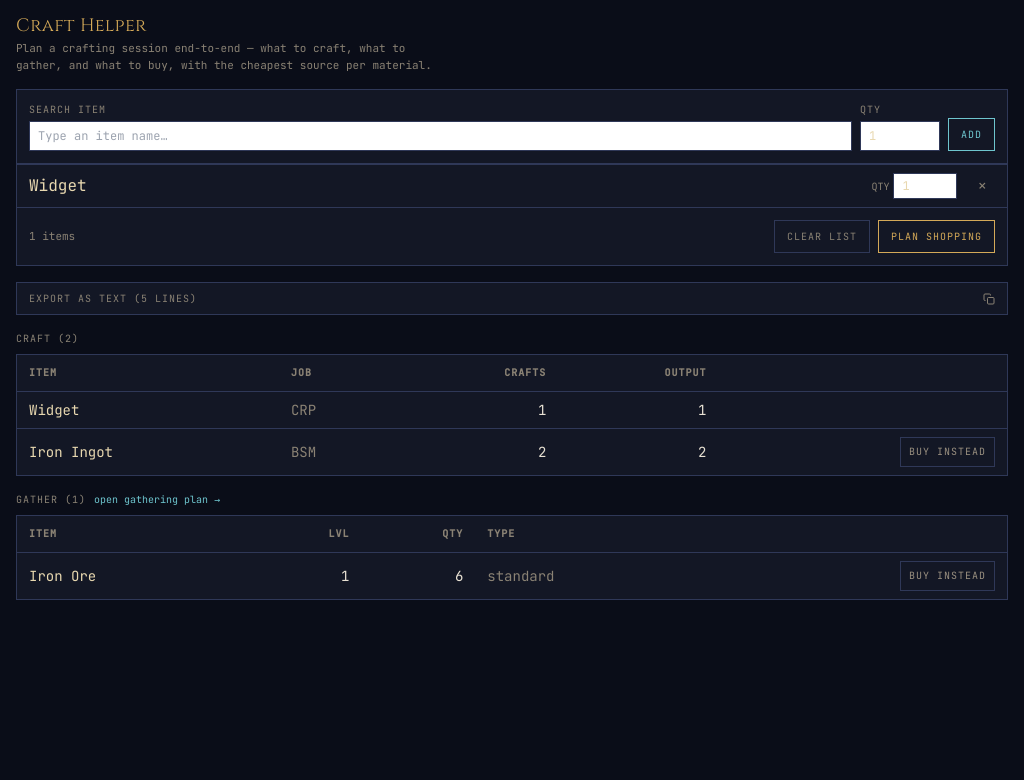
Test: ShoppingList route › prices the Buy list after clicking Plan shopping, excluding crystals
Expected: the text "total material cost" is not shown
Step 1. Click the button "Plan shopping" → [936, 236], box [878,220,995,253]
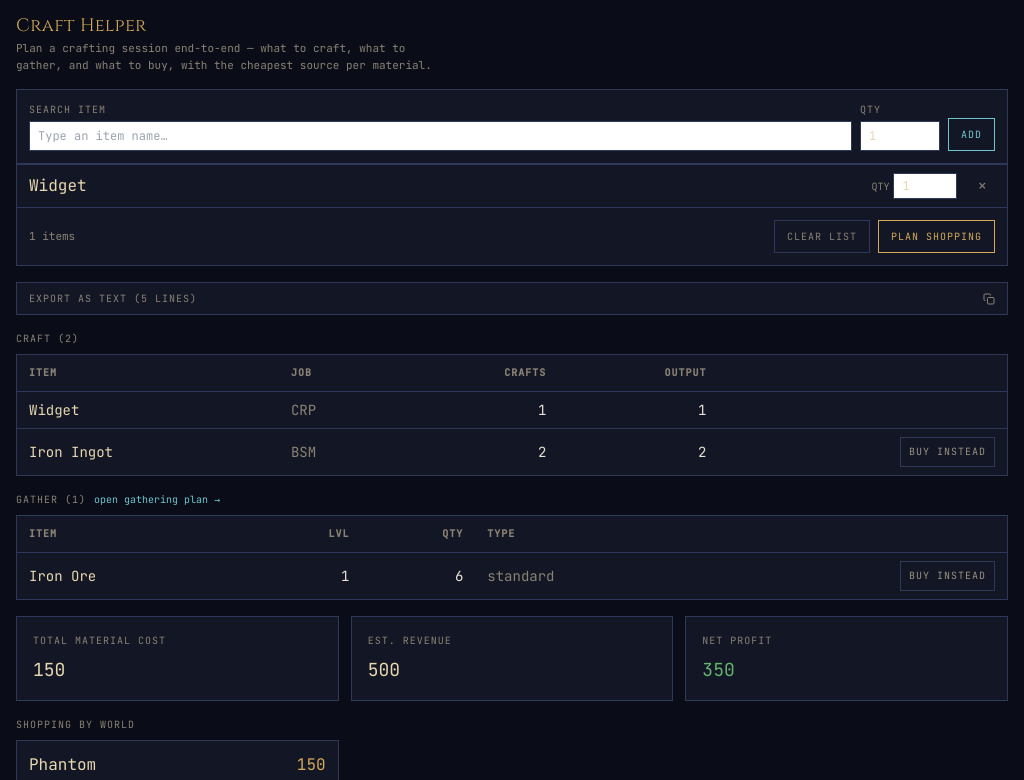
Result: the text "Total material cost" is shown at [33,634,166,647]
